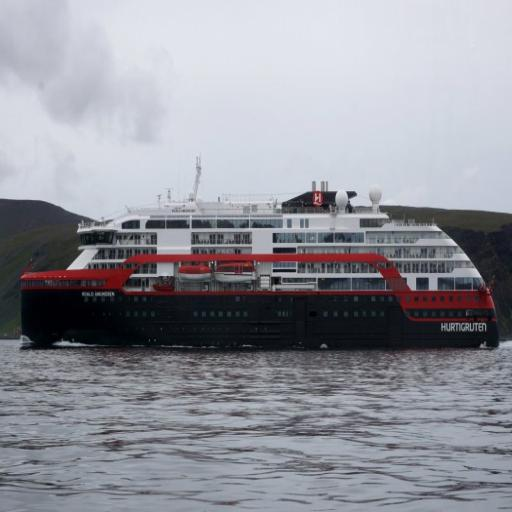cruises: (18, 156, 508, 356)
